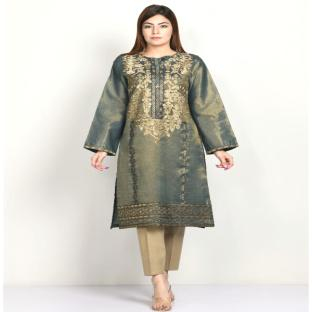Human: (84, 5, 238, 309)
